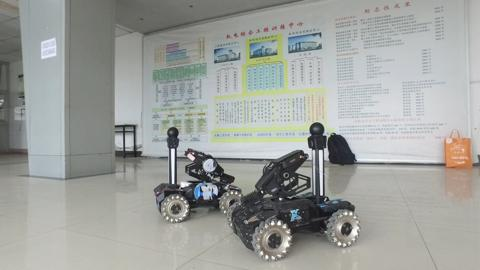chariot: (225, 117, 364, 261), (143, 124, 244, 227)
